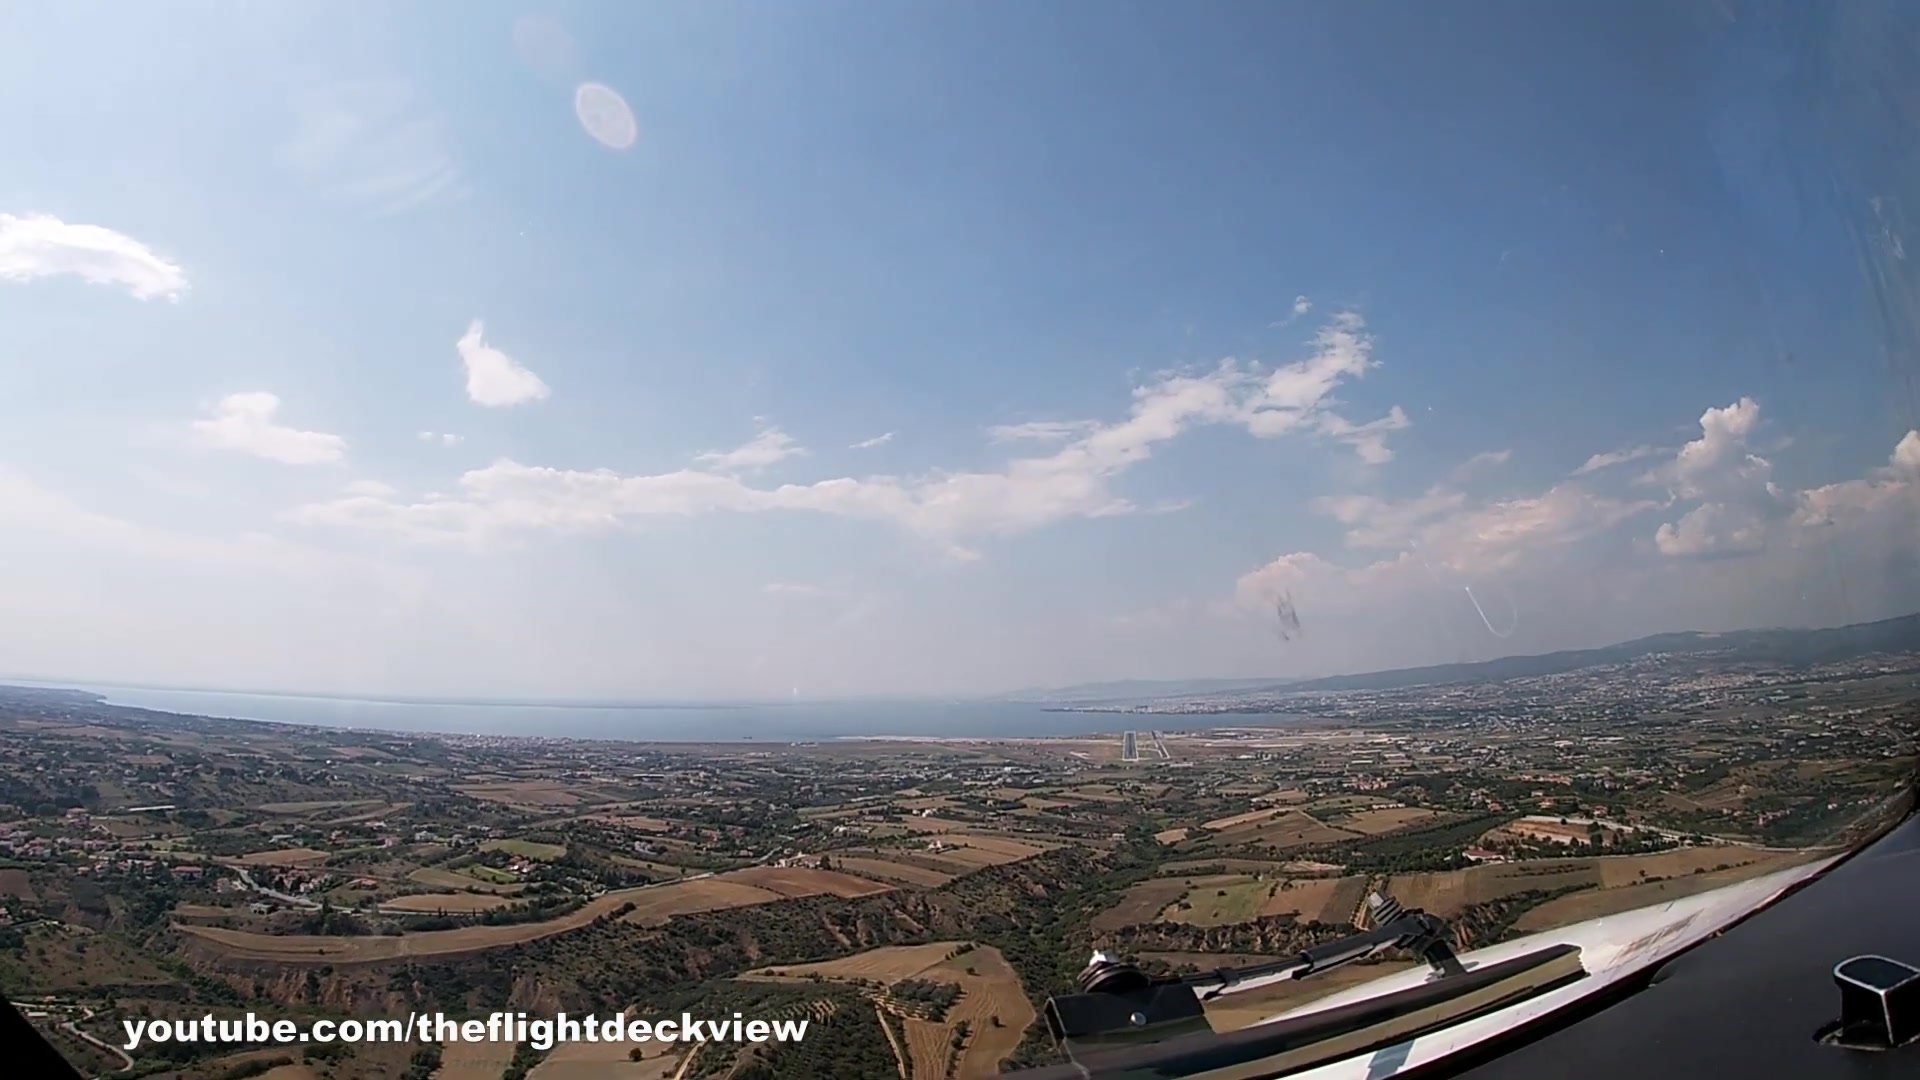runway: (1120, 731, 1143, 762)
